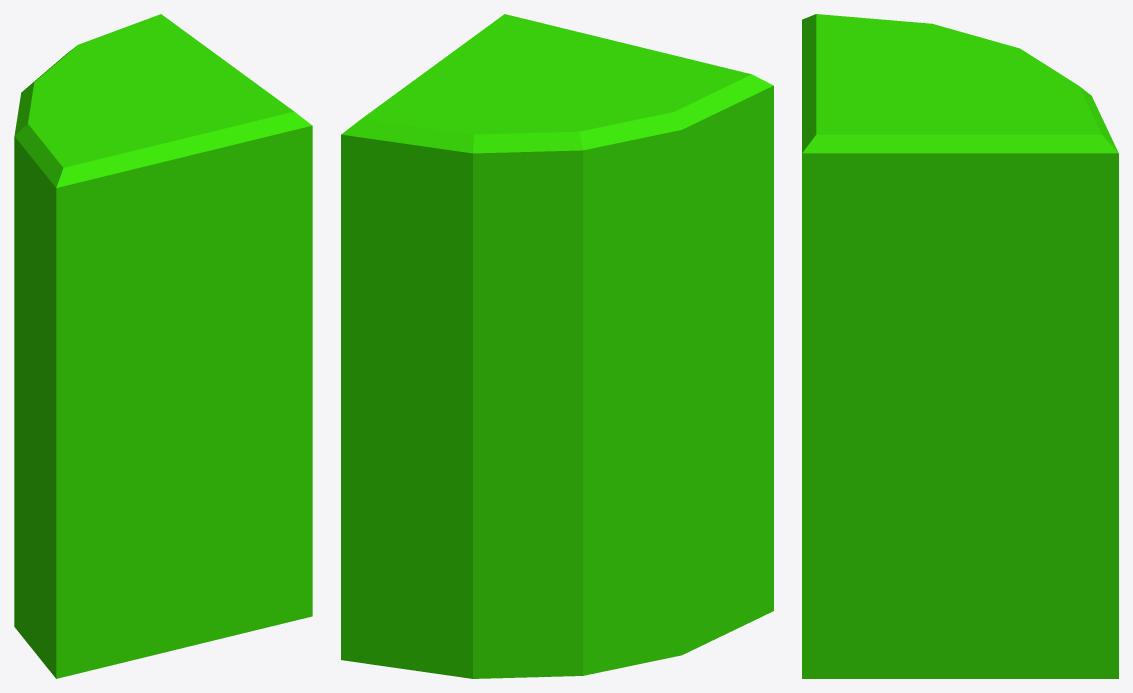
The model's file is round_1x2.fbx.
3 renders of one model, left to right at view 1: azimuth 30°, elevation 25°; view 2: azimuth 150°, elevation 25°; view 3: azimuth 270°, elevation 25°, orthographic. The views are drawn at different scales.
Visible parts, largest first — view 1: round_1x2; view 2: round_1x2; view 3: round_1x2.
Part boxes in pixels (<box>): round_1x2: <box>14,14,312,678</box>; round_1x2: <box>341,14,773,678</box>; round_1x2: <box>802,14,1118,678</box>.
Size of the model in its own units: 112 by 210 by 112.
